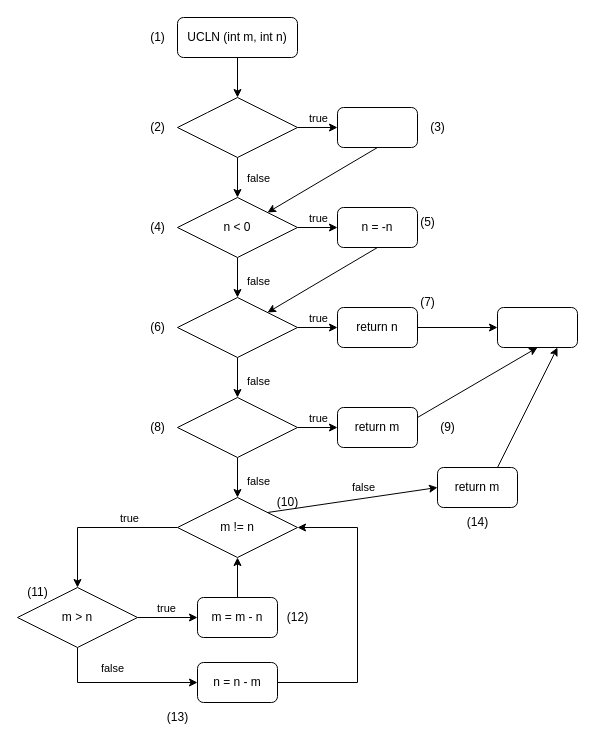
The diagram is 595 pixels wide and 750 high, and some of its shapes have lost their labels. Each missing label, with the centre of its shape:
"exit" goes at (x=537, y=327).
"m < 0" goes at (x=237, y=127).
"m = -m" goes at (x=377, y=127).
"m == 0" goes at (x=237, y=327).
"n == 0" goes at (x=237, y=427).
